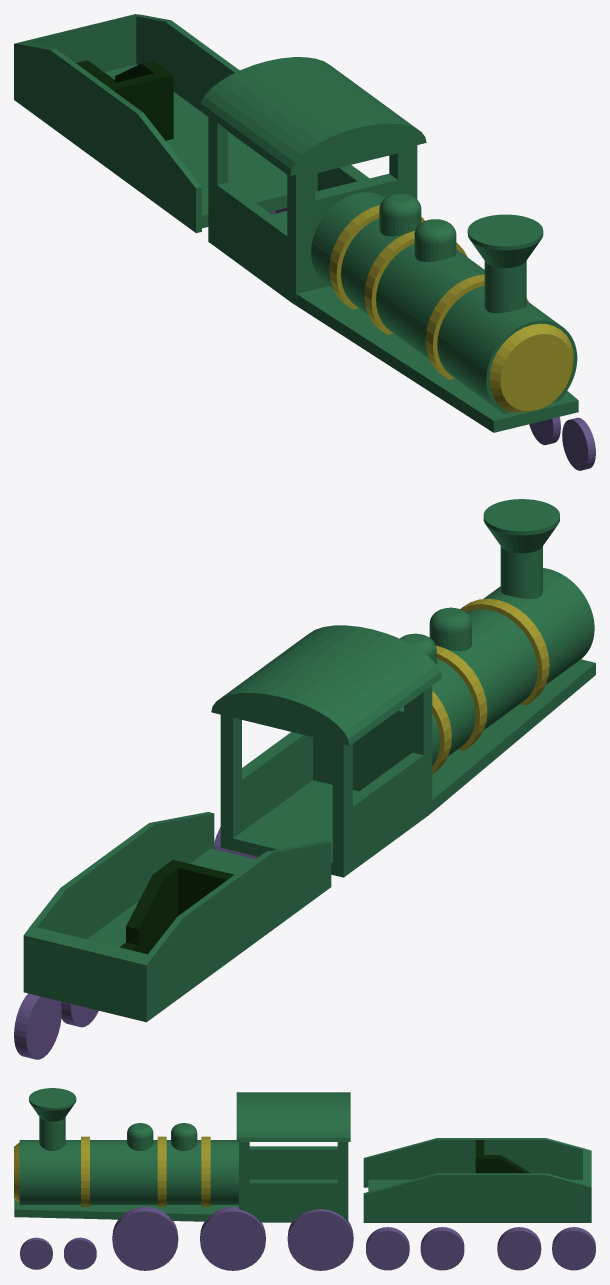
The model's file is VR_train.dae.
3 renders of one model, top to bottom at view 1: azimuth 30°, elevation 25°; view 2: azimuth 150°, elevation 25°; view 3: azimuth 270°, elevation 25°, orthographic. The views are drawn at different scales.
Visible parts, largest first — view 1: Base Plate, Cart Wall, train accent.002, Smoke stack, Cylinder.006; view 2: Base Plate, Cart Wall, Smoke stack, train accent.002, cart wheels; view 3: Base Plate, Cart Wall, Cylinder.006, cart wheels, Smoke stack, train accent.002.
Boxes of the visible parts, bbox=[...] form: Base Plate: bbox=[199, 57, 578, 432]; Cart Wall: bbox=[14, 14, 317, 233]; train accent.002: bbox=[329, 205, 573, 412]; Smoke stack: bbox=[379, 193, 543, 313]; Cylinder.006: bbox=[529, 417, 595, 470]; Base Plate: bbox=[211, 568, 595, 877]; Cart Wall: bbox=[23, 812, 331, 1022]; Smoke stack: bbox=[400, 499, 559, 664]; train accent.002: bbox=[432, 598, 549, 773]; cart wheels: bbox=[14, 993, 98, 1059]; Base Plate: bbox=[14, 1092, 350, 1222]; Cart Wall: bbox=[363, 1138, 591, 1222]; Cylinder.006: bbox=[20, 1206, 353, 1270]; cart wheels: bbox=[366, 1227, 595, 1270]; Smoke stack: bbox=[29, 1088, 197, 1151]; train accent.002: bbox=[14, 1136, 210, 1206].
Bounding box in the file's own units: 9 × 53.11 × 15.31.
